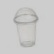plastic: (13, 6, 41, 48)
